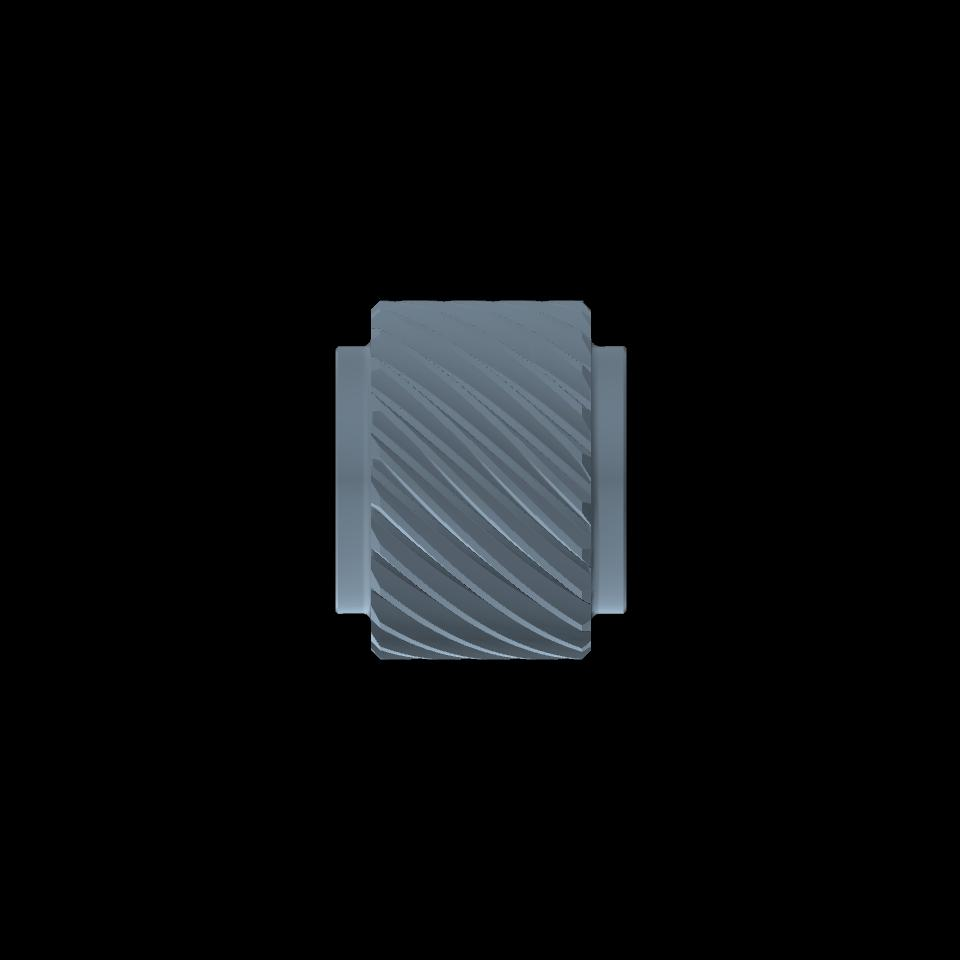Helical: (382, 301, 579, 658)
